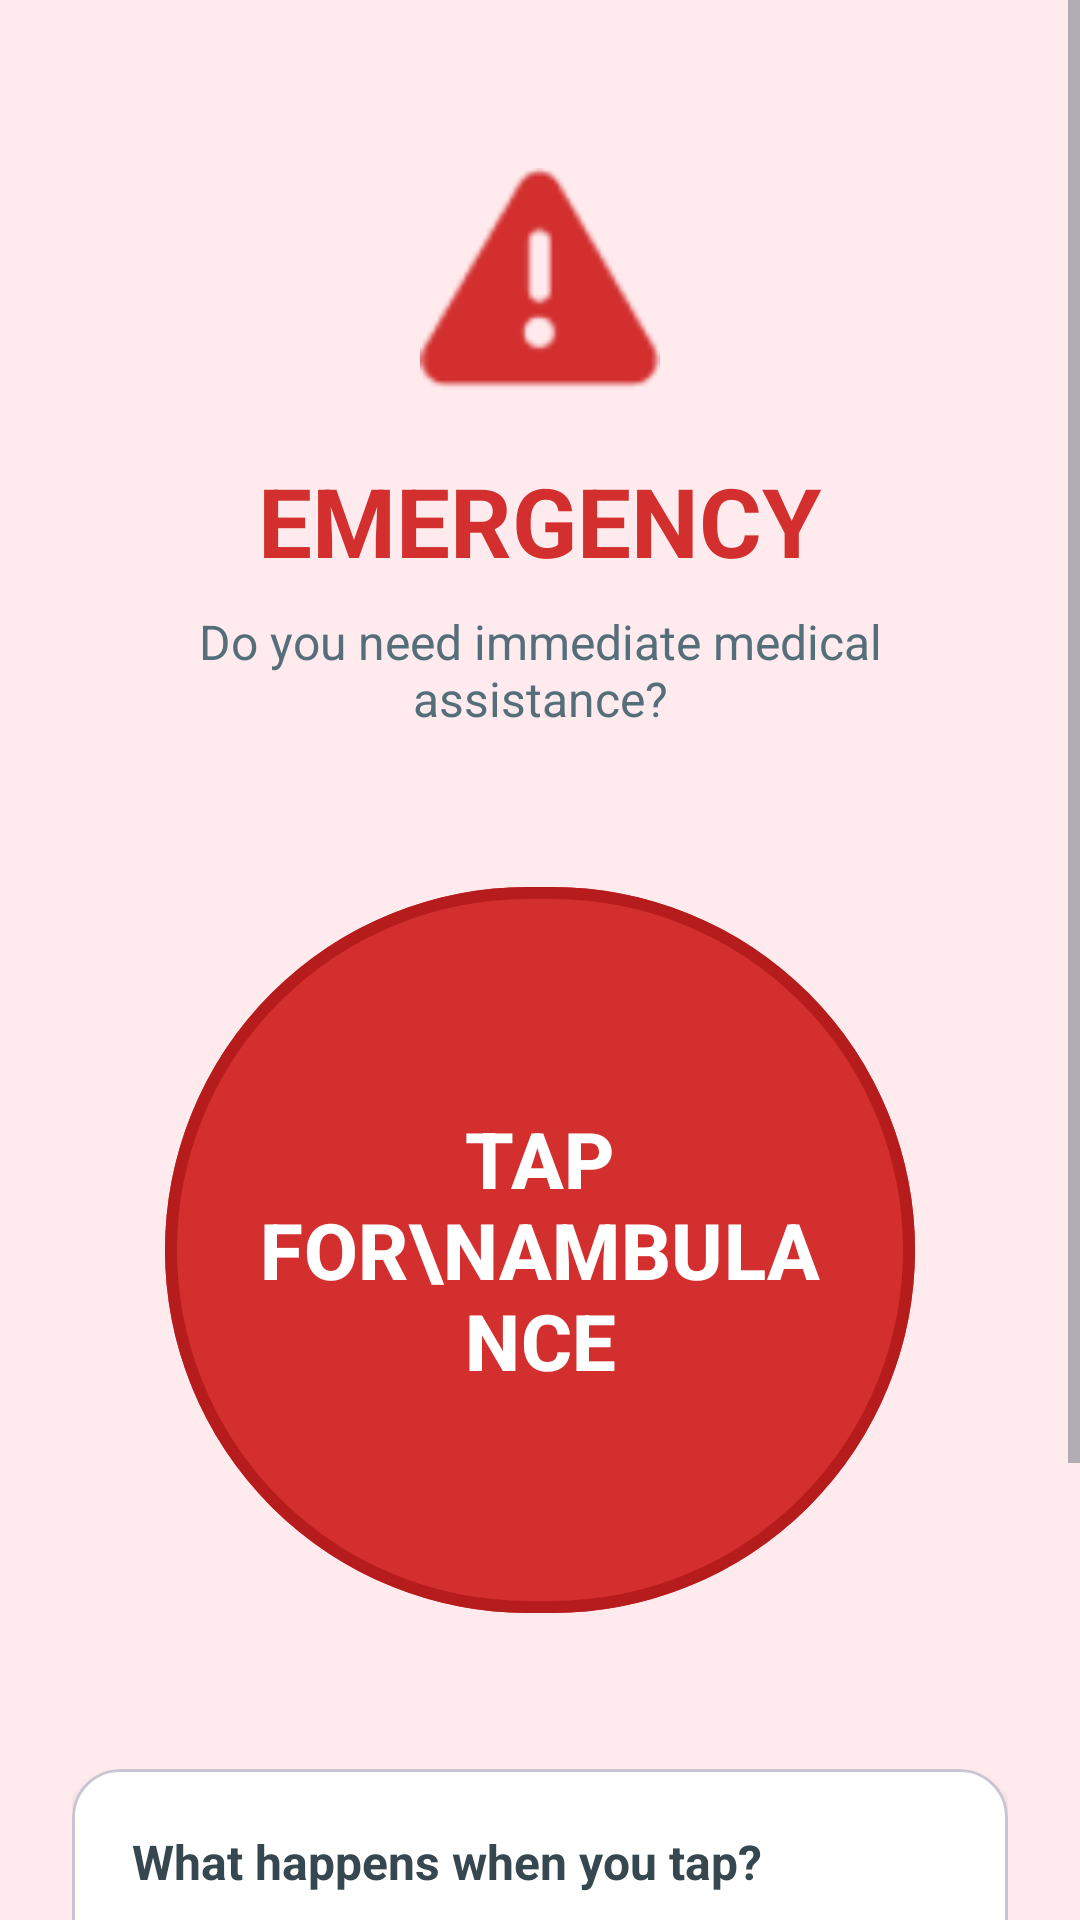

Icons on this 1080px x 1920px Android screen, each with its box as (x1, y1, x2, y2):
alert: (420, 168, 660, 387)
